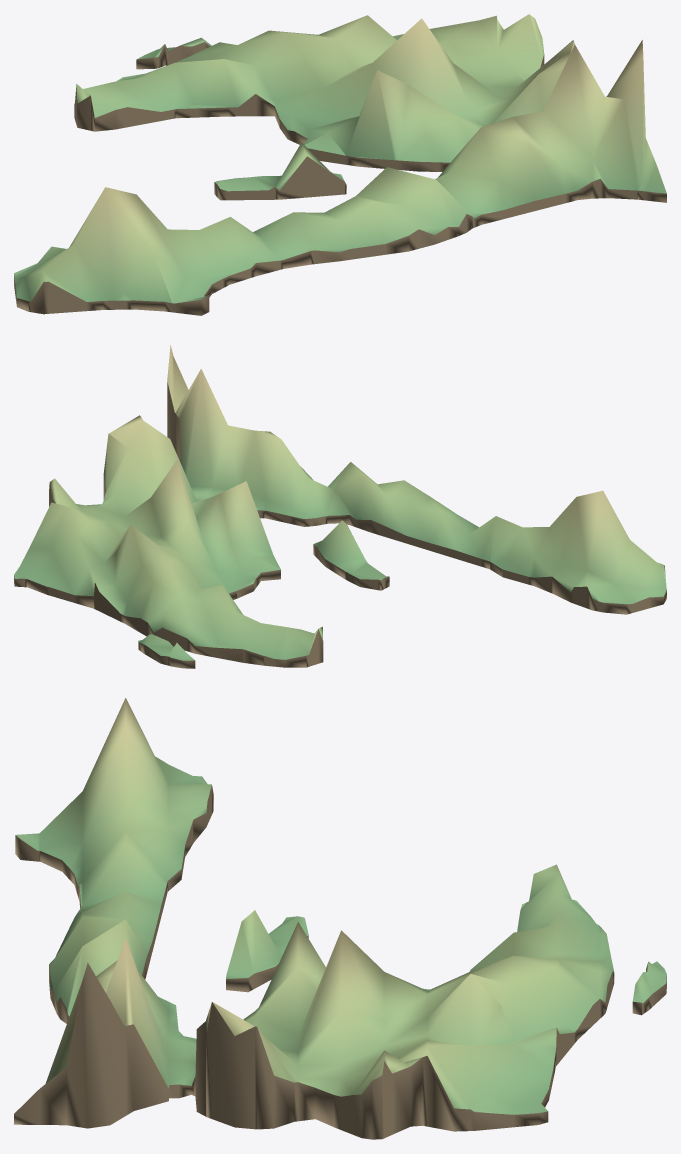
File: HTI.glb
3 views of the same model, one above another, from view 1: azimuth 30°, elevation 25°; view 2: azimuth 150°, elevation 25°; view 3: azimuth 270°, elevation 25° (orthographic). The views are drawn at different scales.
Visible parts, largest first — view 1: HTI; view 2: HTI; view 3: HTI.
Part boxes in pixels (x1,y1,x2,y2): HTI: (14, 14, 666, 315); HTI: (14, 345, 666, 668); HTI: (14, 698, 666, 1139).
Size of the model in its own units: 1.57 by 0.338 by 1.2.
